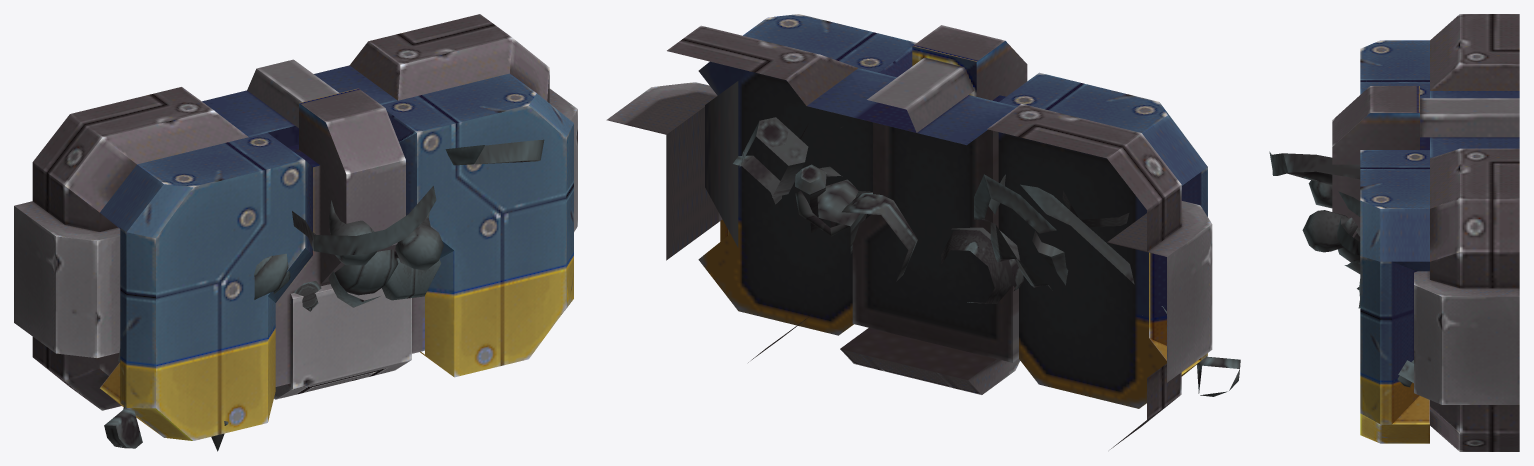
The model's file is arsenal_box.glb.
3 views of the same model, side by side, from view 1: azimuth 30°, elevation 25°; view 2: azimuth 150°, elevation 25°; view 3: azimuth 270°, elevation 25° (orthographic). The views are drawn at different scales.
Parts seen in each view (by area): view 1: arsenal.arsenal_box-MeshNodes["arsenal_lid"], arsenal.arsenal_box-MeshNodes["arsenal_base"], arsenal.arsenal_contents_items-Mesh[0], arsenal.arsenal_box-MeshNodes["arsenal_latch"], arsenal.arsenal_box-MeshNodes["arsenal_interior_bottom"]; view 2: arsenal.arsenal_box-MeshNodes["arsenal_interior_lid"], arsenal.arsenal_box-MeshNodes["arsenal_base"], arsenal.arsenal_box-MeshNodes["arsenal_lid"], arsenal.arsenal_contents_items-Mesh[0], arsenal.arsenal_box-MeshNodes["arsenal_latch"], arsenal.arsenal_box-MeshNodes["arsenal_interior_bottom"]; view 3: arsenal.arsenal_box-MeshNodes["arsenal_base"], arsenal.arsenal_box-MeshNodes["arsenal_lid"], arsenal.arsenal_contents_items-Mesh[0].
Boxes of the visible parts, x1=… form: arsenal.arsenal_box-MeshNodes["arsenal_lid"]: x1=100, y1=73, x2=573, y2=440; arsenal.arsenal_box-MeshNodes["arsenal_base"]: x1=14, y1=14, x2=577, y2=410; arsenal.arsenal_contents_items-Mesh[0]: x1=104, y1=139, x2=544, y2=451; arsenal.arsenal_box-MeshNodes["arsenal_latch"]: x1=274, y1=284, x2=411, y2=399; arsenal.arsenal_box-MeshNodes["arsenal_interior_bottom"]: x1=99, y1=126, x2=298, y2=375; arsenal.arsenal_box-MeshNodes["arsenal_interior_lid"]: x1=698, y1=61, x2=1166, y2=408; arsenal.arsenal_box-MeshNodes["arsenal_base"]: x1=606, y1=25, x2=1212, y2=449; arsenal.arsenal_box-MeshNodes["arsenal_lid"]: x1=720, y1=14, x2=1207, y2=405; arsenal.arsenal_contents_items-Mesh[0]: x1=733, y1=117, x2=1240, y2=396; arsenal.arsenal_box-MeshNodes["arsenal_latch"]: x1=840, y1=328, x2=1020, y2=394; arsenal.arsenal_box-MeshNodes["arsenal_interior_bottom"]: x1=705, y1=81, x2=738, y2=247; arsenal.arsenal_box-MeshNodes["arsenal_base"]: x1=1414, y1=14, x2=1519, y2=451; arsenal.arsenal_box-MeshNodes["arsenal_lid"]: x1=1332, y1=40, x2=1429, y2=443; arsenal.arsenal_contents_items-Mesh[0]: x1=1269, y1=151, x2=1413, y2=387.
Size of the model in its own units: 2.8 by 1.52 by 1.26.
Materials: 3 (3 with a texture image).
